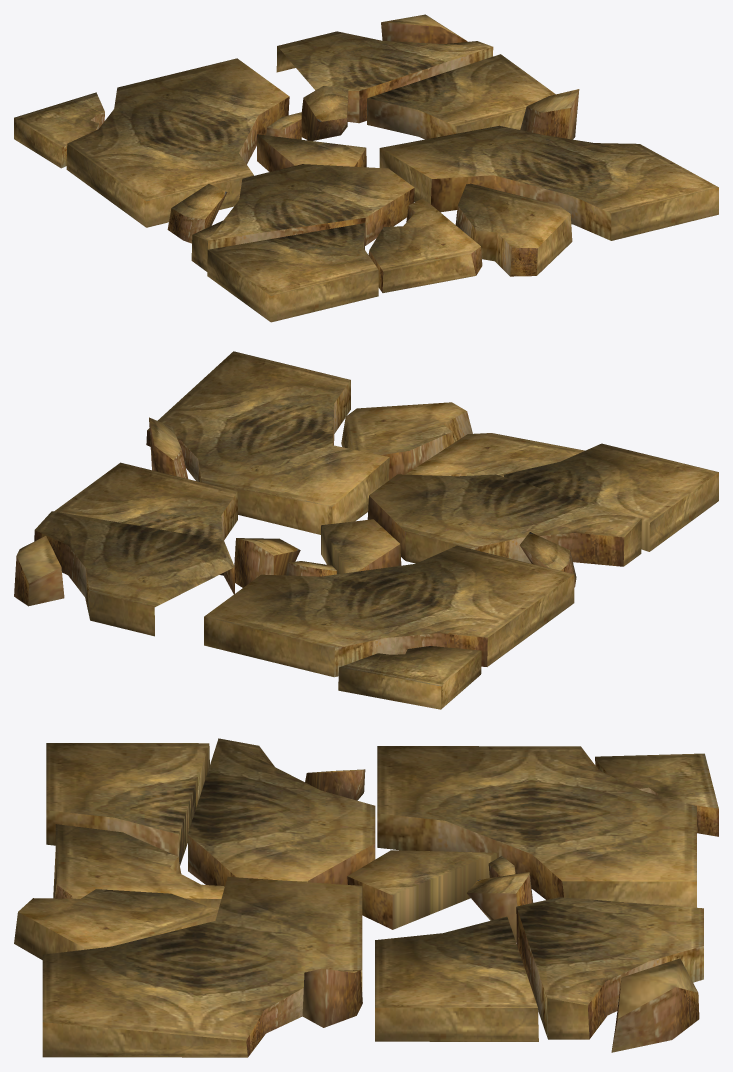
File: S_Build_Desert069.FBX
3 renders of one model, top to bottom at view 1: azimuth 30°, elevation 25°; view 2: azimuth 150°, elevation 25°; view 3: azimuth 270°, elevation 25°, orthographic. The views are drawn at different scales.
Parts seen in each view (by area): view 1: S_Build_Desert069; view 2: S_Build_Desert069; view 3: S_Build_Desert069.
Part boxes in pixels (bbox=[...]): S_Build_Desert069: bbox=[14, 14, 718, 322]; S_Build_Desert069: bbox=[14, 351, 718, 709]; S_Build_Desert069: bbox=[14, 738, 718, 1057].
Size of the model in its own units: 511 by 542 by 67.2.
